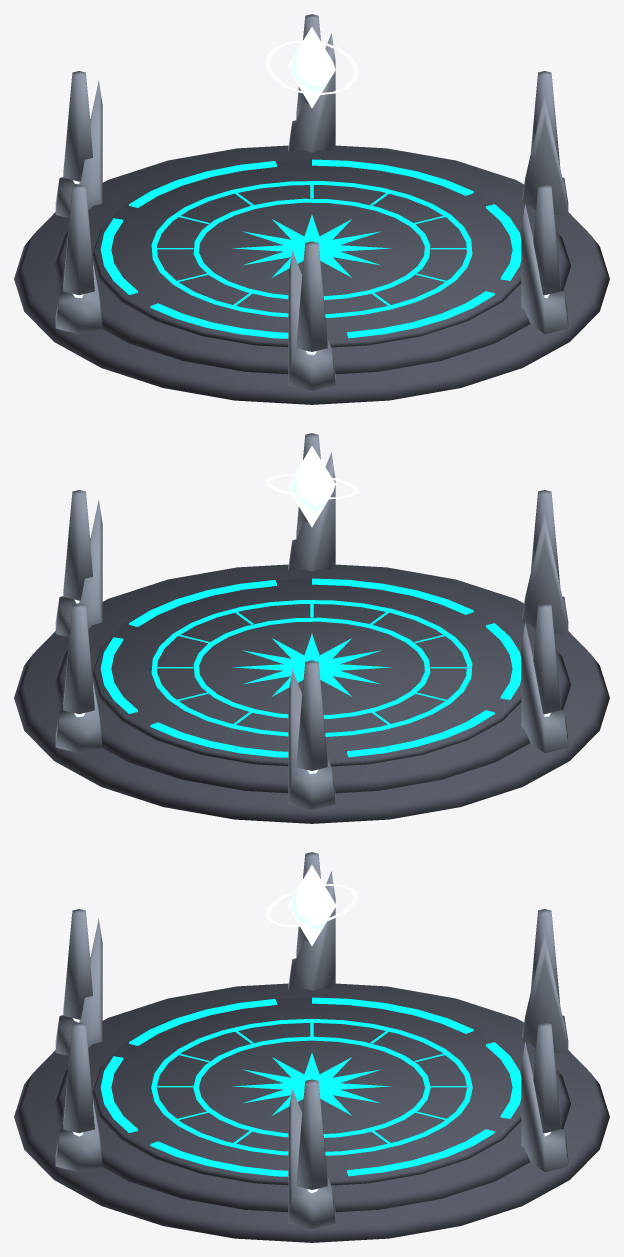
File: Sanctum_Grand_Tier1_Modular.fbx
3 renders of one model, top to bottom at view 1: azimuth 30°, elevation 25°; view 2: azimuth 150°, elevation 25°; view 3: azimuth 270°, elevation 25°, orthographic.
Parts seen in each view (by area): view 1: Sanctum_Base_Stone, Sanctum_Perimeter_Monoliths, Sanctum_Rune_Glow, Sanctum_Floating_Nexus; view 2: Sanctum_Base_Stone, Sanctum_Perimeter_Monoliths, Sanctum_Rune_Glow, Sanctum_Floating_Nexus; view 3: Sanctum_Base_Stone, Sanctum_Perimeter_Monoliths, Sanctum_Rune_Glow, Sanctum_Floating_Nexus.
Boxes of the visible parts, x1,y1,x2,y2 form: Sanctum_Base_Stone: [14, 145, 609, 404]; Sanctum_Perimeter_Monoliths: [55, 14, 568, 390]; Sanctum_Rune_Glow: [100, 159, 521, 338]; Sanctum_Floating_Nexus: [73, 27, 549, 354]; Sanctum_Base_Stone: [14, 564, 609, 823]; Sanctum_Perimeter_Monoliths: [55, 433, 568, 809]; Sanctum_Rune_Glow: [100, 578, 521, 757]; Sanctum_Floating_Nexus: [74, 446, 550, 773]; Sanctum_Base_Stone: [14, 983, 609, 1242]; Sanctum_Perimeter_Monoliths: [55, 852, 568, 1228]; Sanctum_Rune_Glow: [100, 997, 521, 1176]; Sanctum_Floating_Nexus: [72, 865, 550, 1192].
Size of the model in its own units: 9.2 by 4.3 by 9.2.
